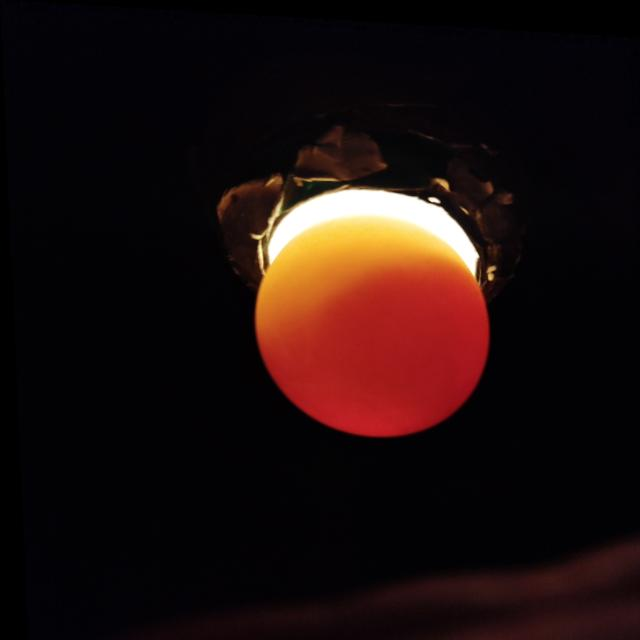Gema Quebrada: (257, 250, 485, 433)
